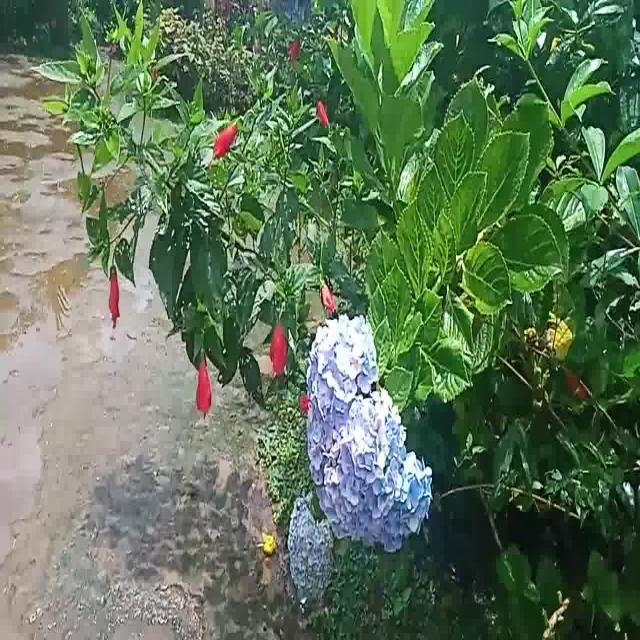Flower: (306, 312, 430, 547), (282, 495, 338, 598), (212, 109, 242, 182), (194, 341, 216, 423), (268, 317, 292, 385), (106, 265, 123, 334)
